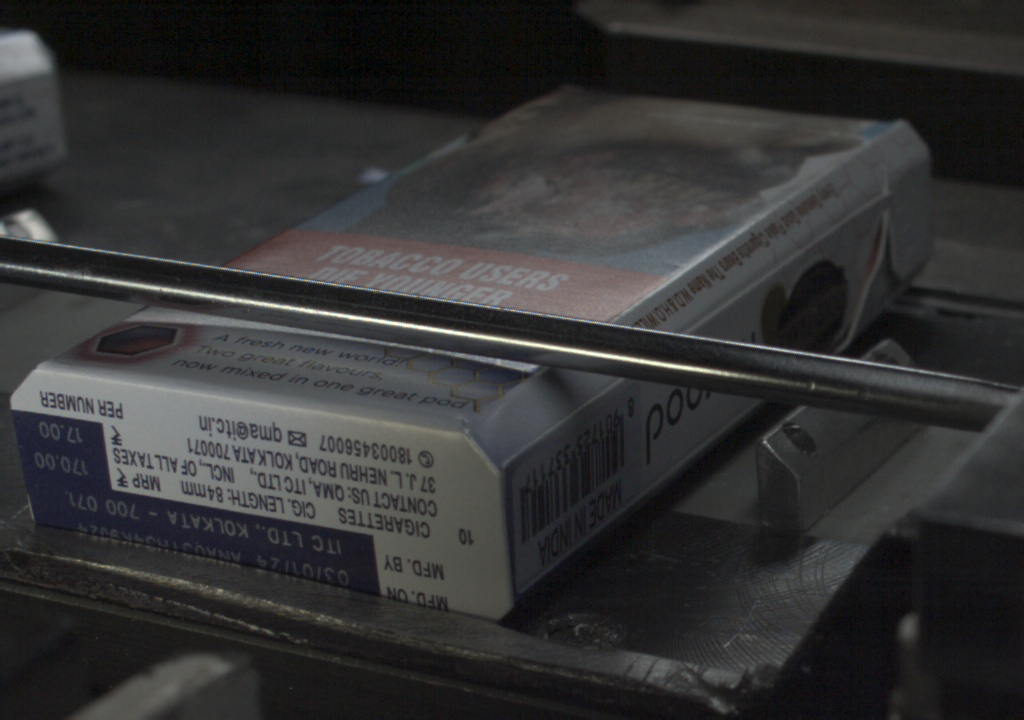g_bottom: (12, 367, 516, 627)
g_label: (22, 484, 377, 592)
g_lmiter: (682, 260, 775, 332), (781, 191, 880, 254), (561, 377, 619, 427), (501, 428, 558, 468)
ng_miter: (879, 167, 940, 285)
price: (19, 417, 107, 484)
